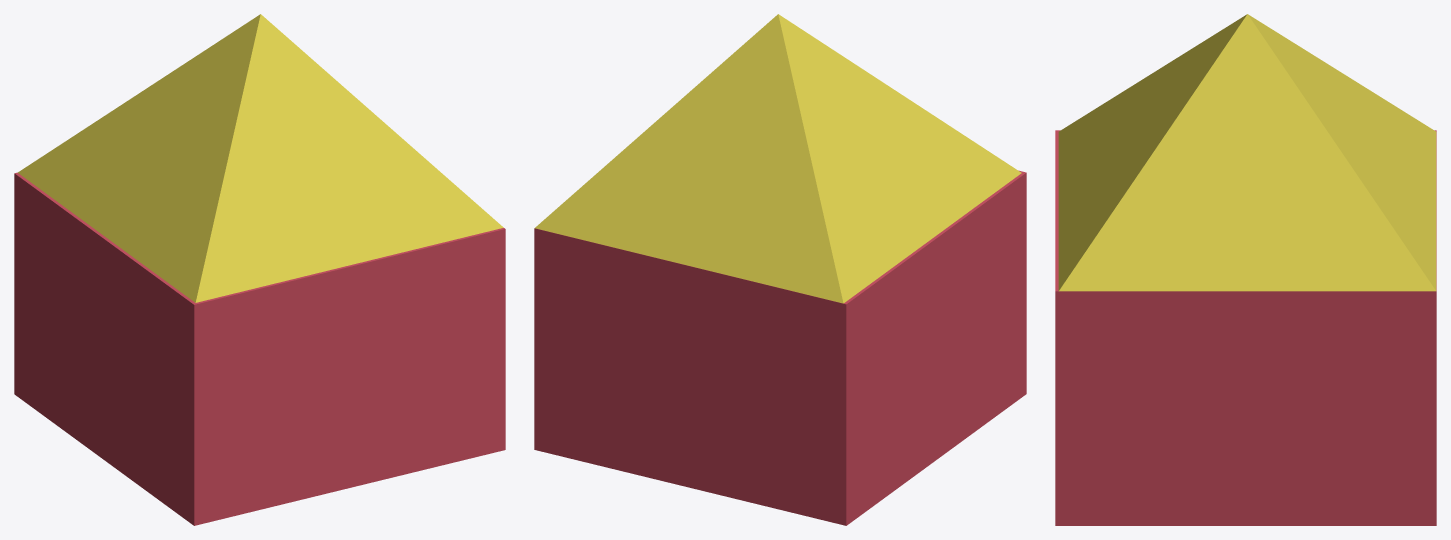
3 renders of one model, left to right at view 1: azimuth 30°, elevation 25°; view 2: azimuth 150°, elevation 25°; view 3: azimuth 270°, elevation 25°, orthographic. The views are drawn at different scales.
Visible parts, largest first — view 1: Mesh_Mesh_head_geo.001_lambert2SG.001; view 2: Mesh_Mesh_head_geo.001_lambert2SG.001; view 3: Mesh_Mesh_head_geo.001_lambert2SG.001.
Boxes of the visible parts, x1,y1,x2,y2 form: Mesh_Mesh_head_geo.001_lambert2SG.001: (14, 14, 505, 525); Mesh_Mesh_head_geo.001_lambert2SG.001: (534, 14, 1026, 525); Mesh_Mesh_head_geo.001_lambert2SG.001: (1055, 14, 1436, 525).
Bounding box in the file's own units: 0.028 × 0.035 × 0.028.
